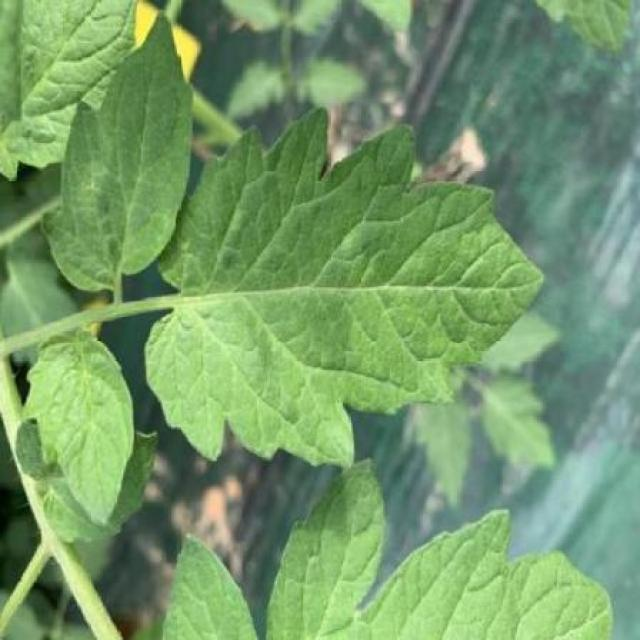Healthy: (145, 106, 544, 467), (41, 12, 193, 292), (20, 328, 134, 525)
